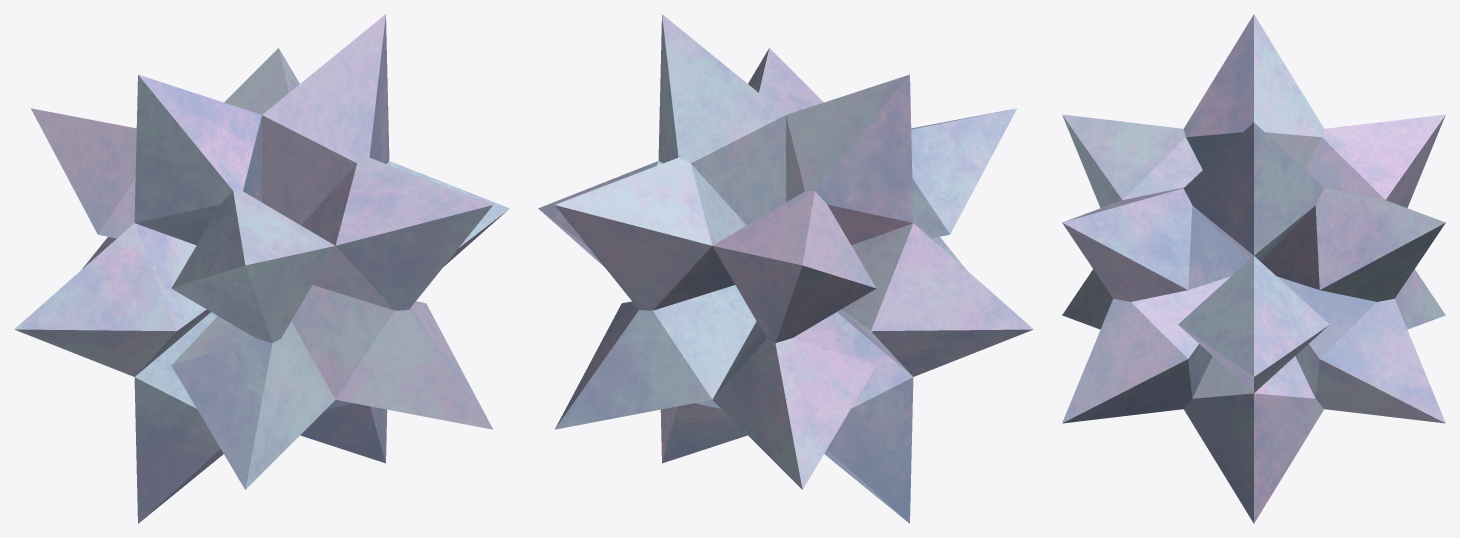
The model's file is sizukuSpecialRain.obj.
The picture shows the model from 3 angles, left to right: view 1: azimuth 30°, elevation 25°; view 2: azimuth 150°, elevation 25°; view 3: azimuth 270°, elevation 25°; orthographic projection. The views are drawn at different scales.
Parts seen in each view (by area): view 1: 平面.001; view 2: 平面.001; view 3: 平面.001.
Part boxes in pixels (bbox=[...]): 平面.001: bbox=[14, 14, 509, 523]; 平面.001: bbox=[538, 14, 1033, 523]; 平面.001: bbox=[1062, 14, 1445, 523].
Bounding box in the file's own units: 3.37 × 2.92 × 2.53.
Materials: 1 (1 with a texture image).
